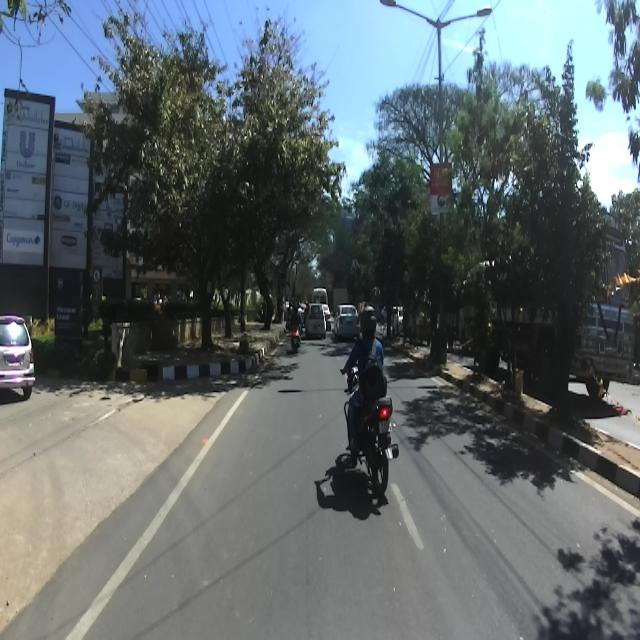motorcycle ahead at: (342, 393, 401, 504)
